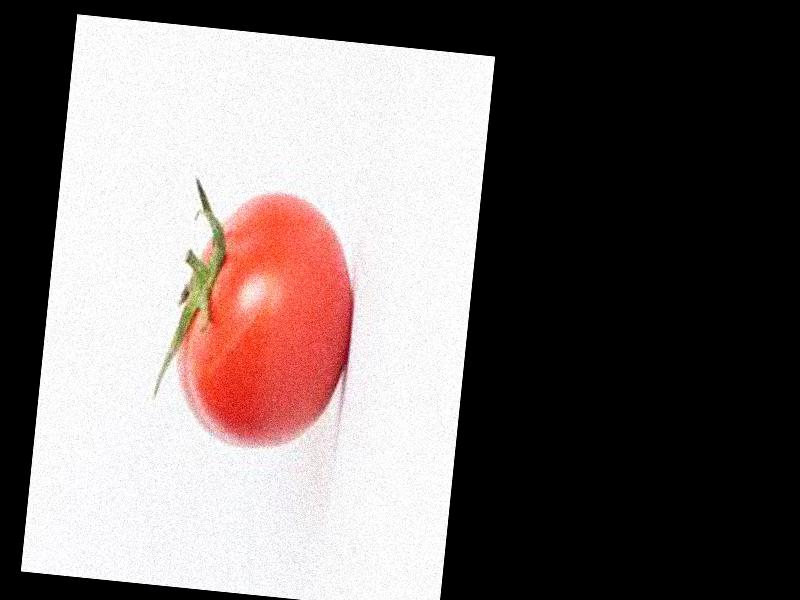Tomato: (170, 185, 364, 460)
